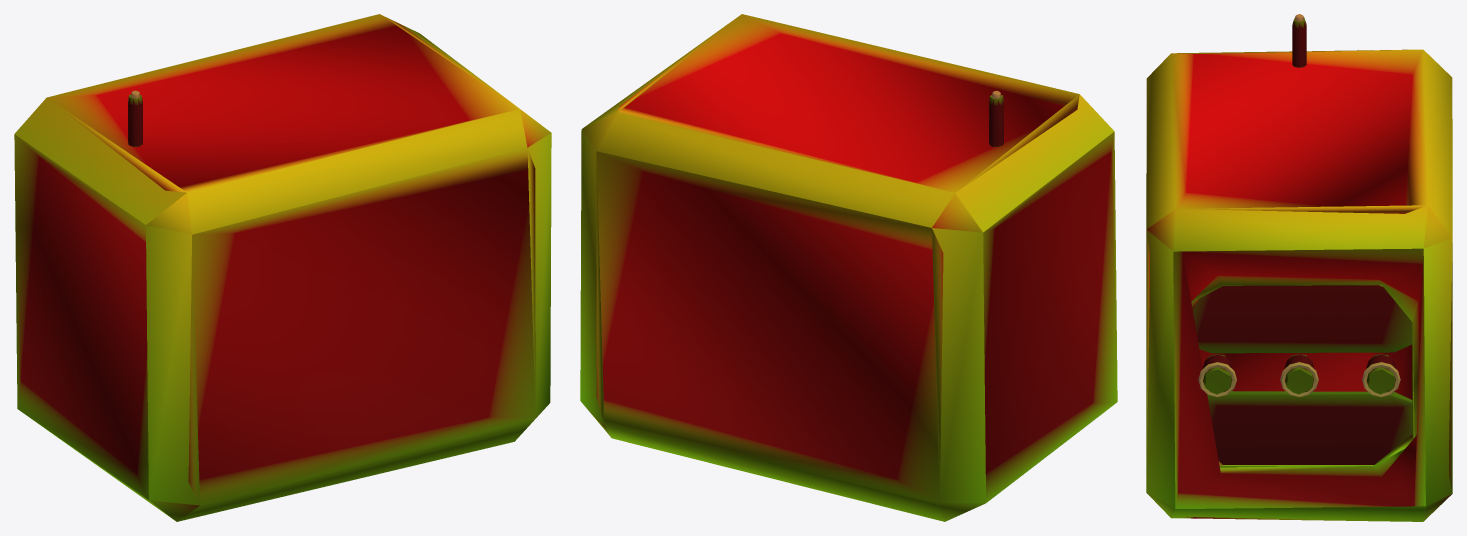
The model's file is RCLModule_arachnid_hexapod_pulsar_magnetic_shield_sponsons.fbx.
The picture shows the model from 3 angles, left to right: view 1: azimuth 30°, elevation 25°; view 2: azimuth 150°, elevation 25°; view 3: azimuth 270°, elevation 25°; orthographic projection. The views are drawn at different scales.
Visible parts, largest first — view 1: RCLModule_arachnid_hexapod_pulsar_magnetic_shield_sponsons_B (×2); view 2: RCLModule_arachnid_hexapod_pulsar_magnetic_shield_sponsons_B (×2); view 3: RCLModule_arachnid_hexapod_pulsar_magnetic_shield_sponsons_B (×3).
Part boxes in pixels (x1,y1,x2,y2): RCLModule_arachnid_hexapod_pulsar_magnetic_shield_sponsons_B (×2): (14, 14, 551, 521); RCLModule_arachnid_hexapod_pulsar_magnetic_shield_sponsons_B (×2): (580, 14, 1117, 521); RCLModule_arachnid_hexapod_pulsar_magnetic_shield_sponsons_B (×3): (1146, 14, 1452, 521).
Bounding box in the file's own units: 48.36 × 42.5 × 32.94.
